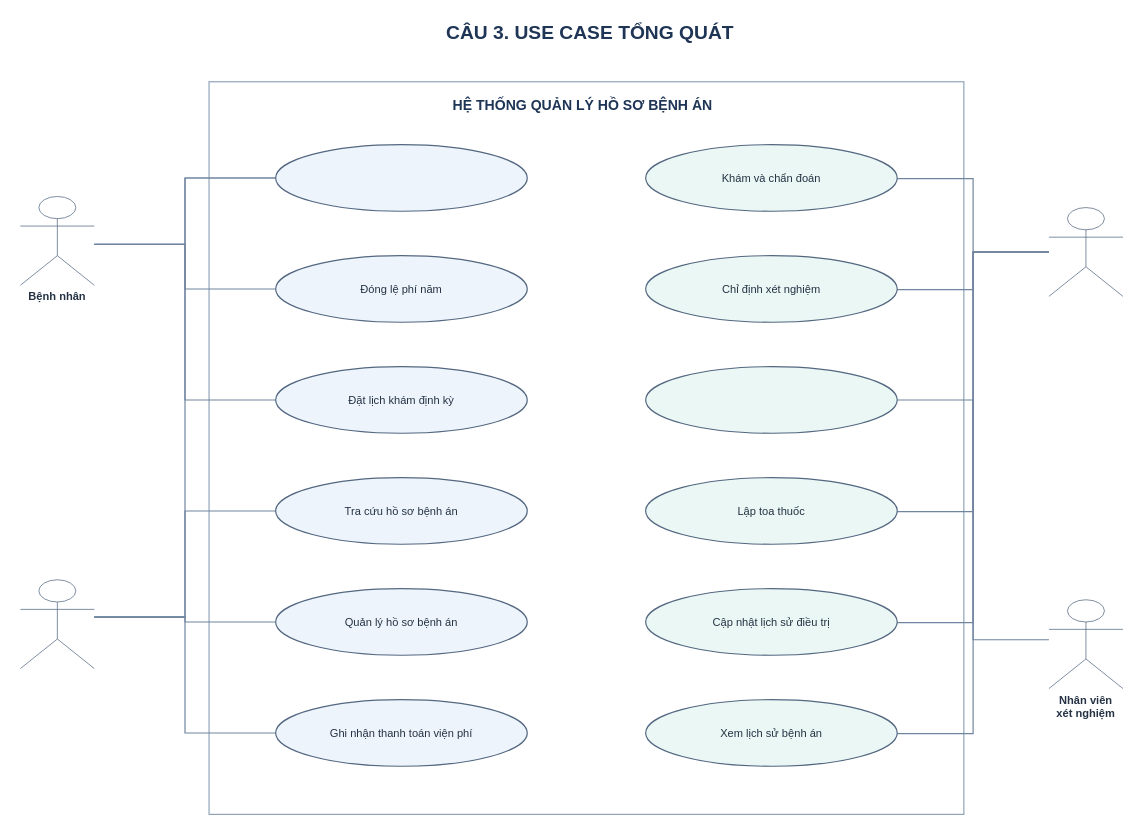
Image size: 1137x827. Some labels were removed from this diagram. Here are the shapes that lost their labels. From the top down, the centre of each, then its label:
At (x=401, y=177): "Đăng ký khám bệnh".
At (x=1085, y=251): "Bác sĩ".
At (x=771, y=399): "Ghi nhận kết quả xét nghiệm".
At (x=57, y=624): "Nhân viên tiếp nhận / CSKH".
